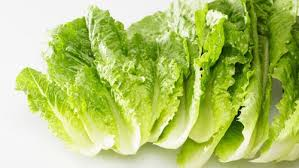lettuce: (185, 1, 299, 161), (87, 5, 187, 158), (15, 10, 117, 158)
